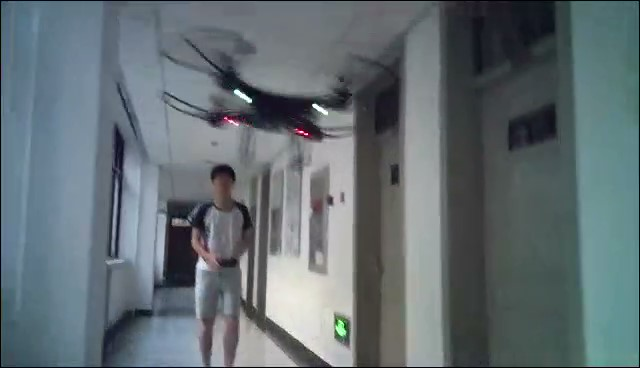drone: (158, 27, 401, 146)
person: (186, 162, 254, 368)
